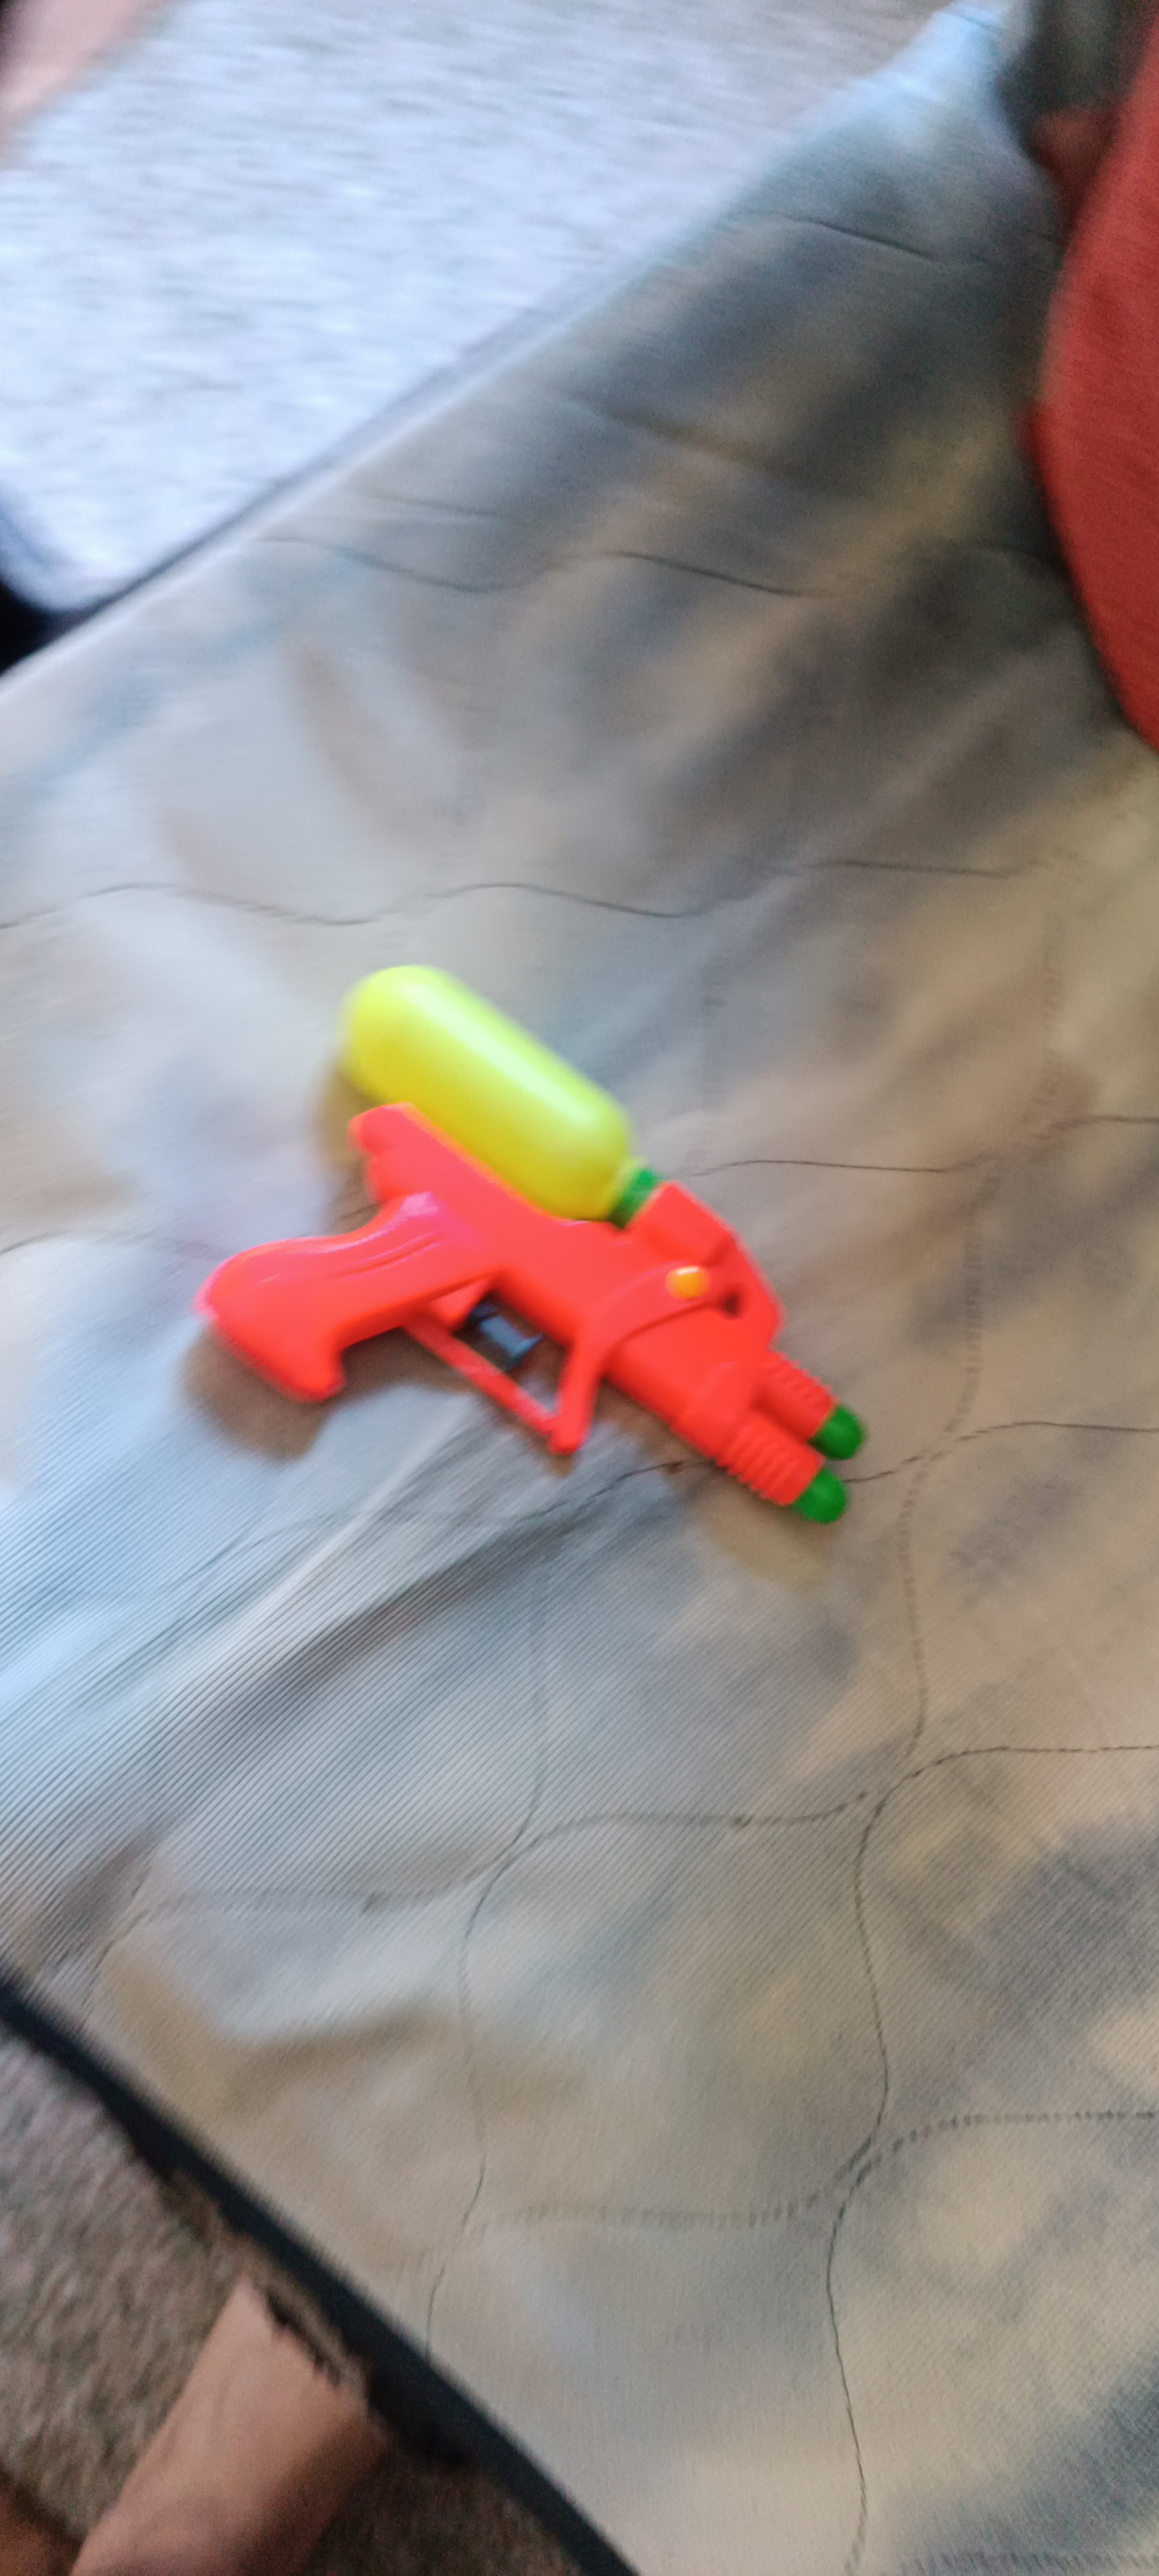Water Gun: (194, 963, 867, 1525)
